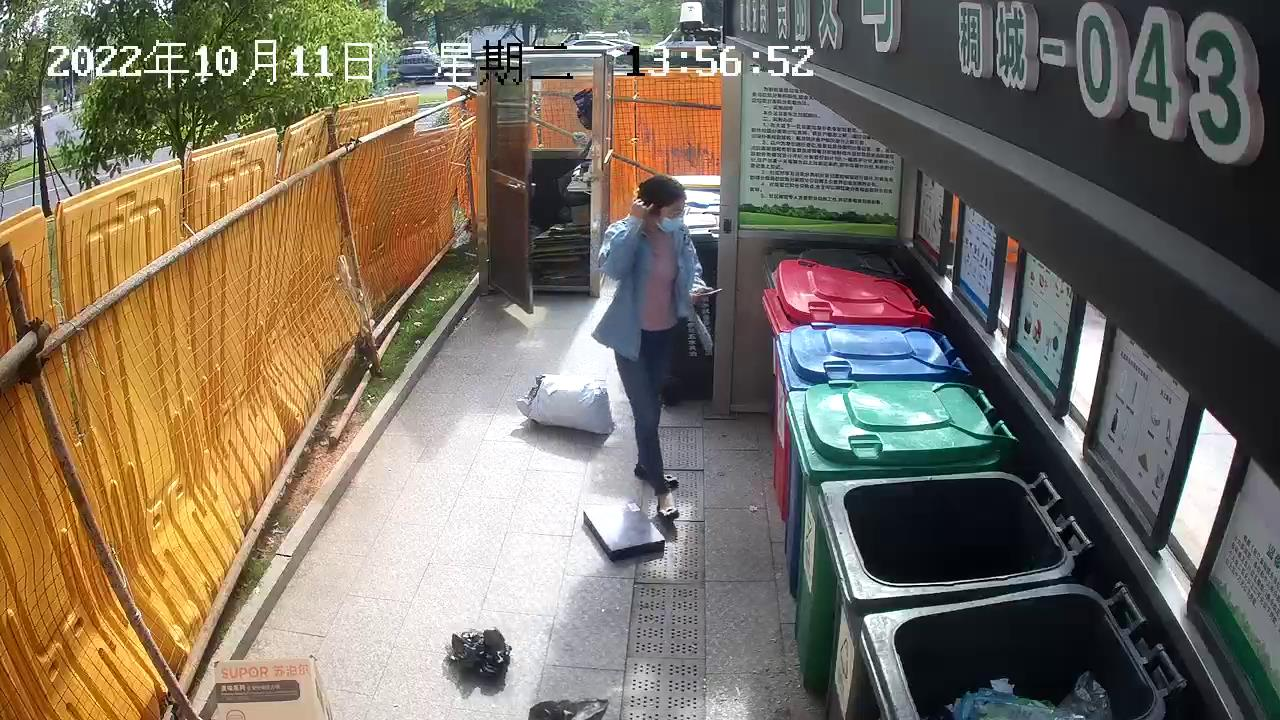garbage: (510, 369, 620, 438), (445, 623, 519, 681)
worker: (586, 169, 729, 525)
zhizhipin: (207, 647, 339, 720)
